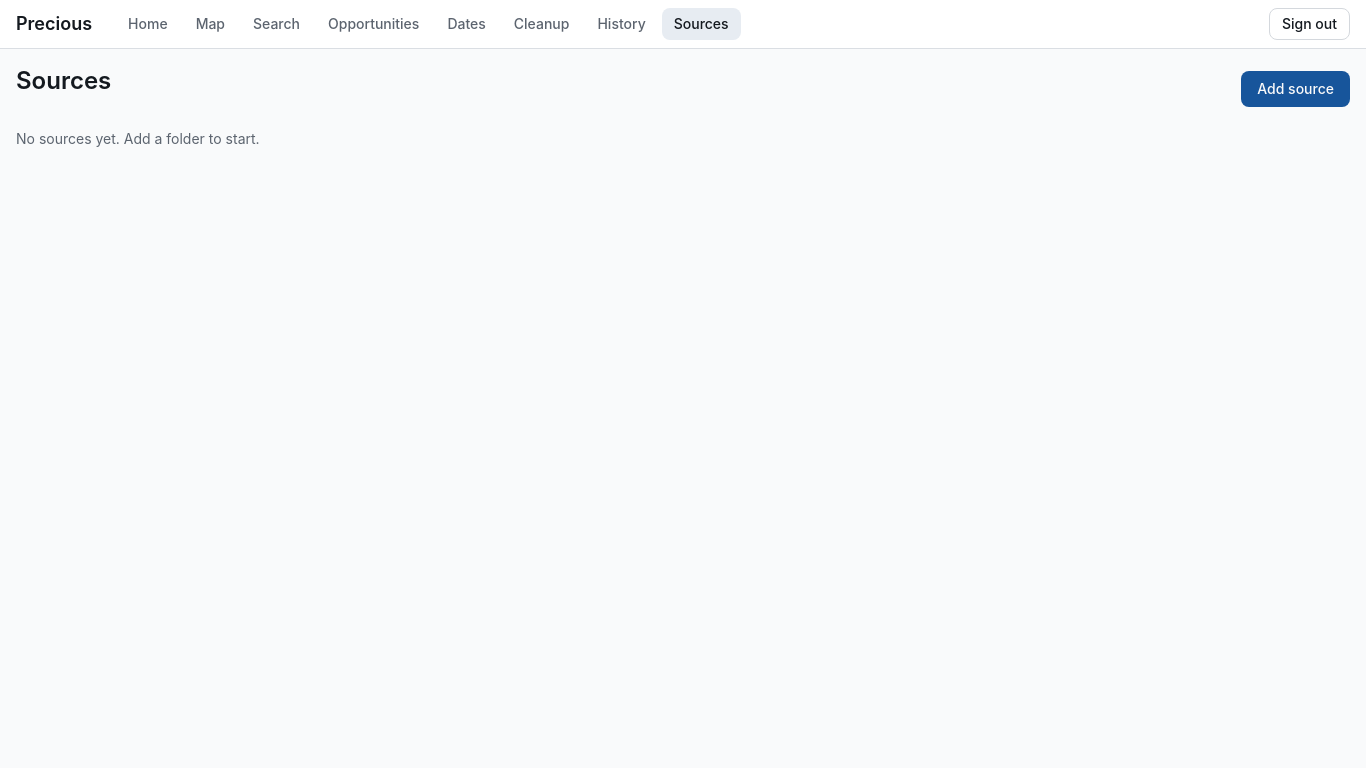
Test: Sources screen › explains a folder outside the allowed locations
This screenshot has width=1366, height=768.
Click the button "Add source" at (1296, 89), box [1241,71,1350,107]
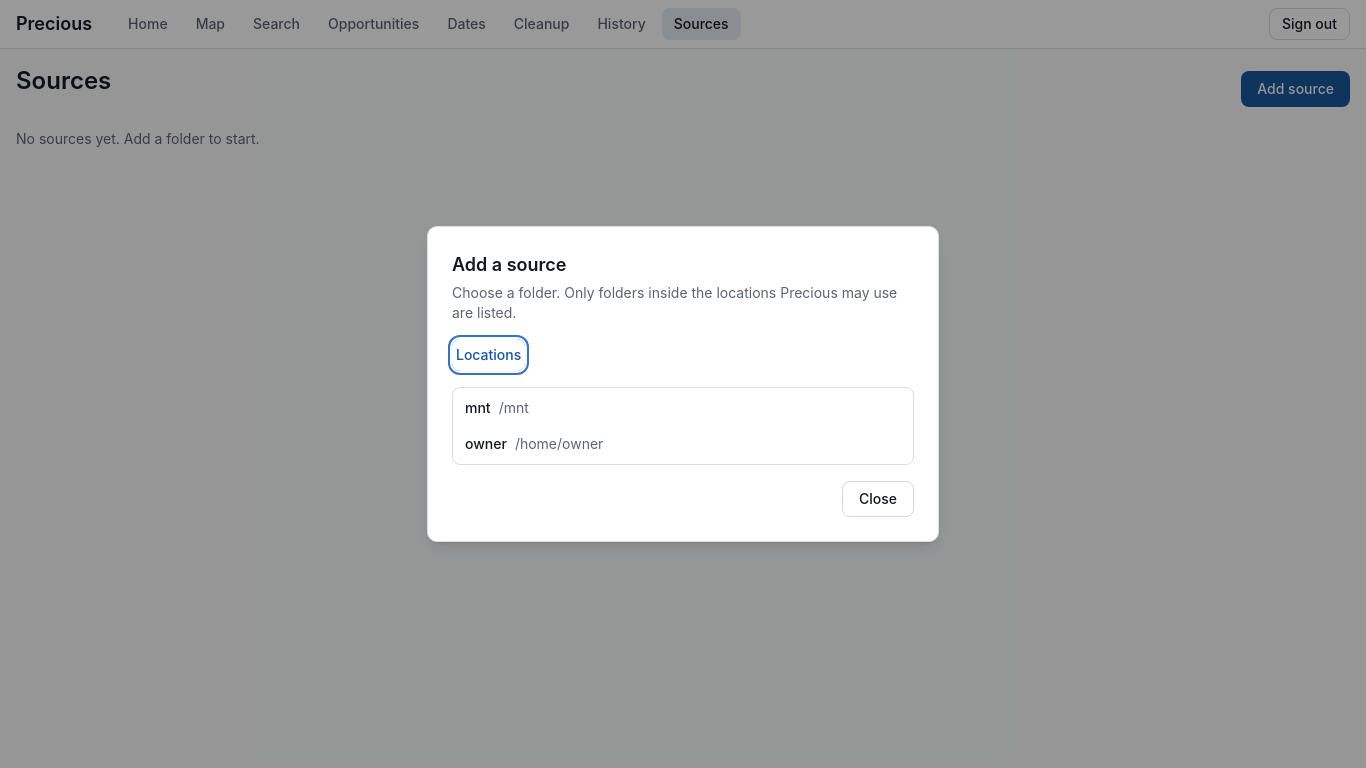
Click the button "mnt /mnt" at (514, 408), box [457,392,909,424]
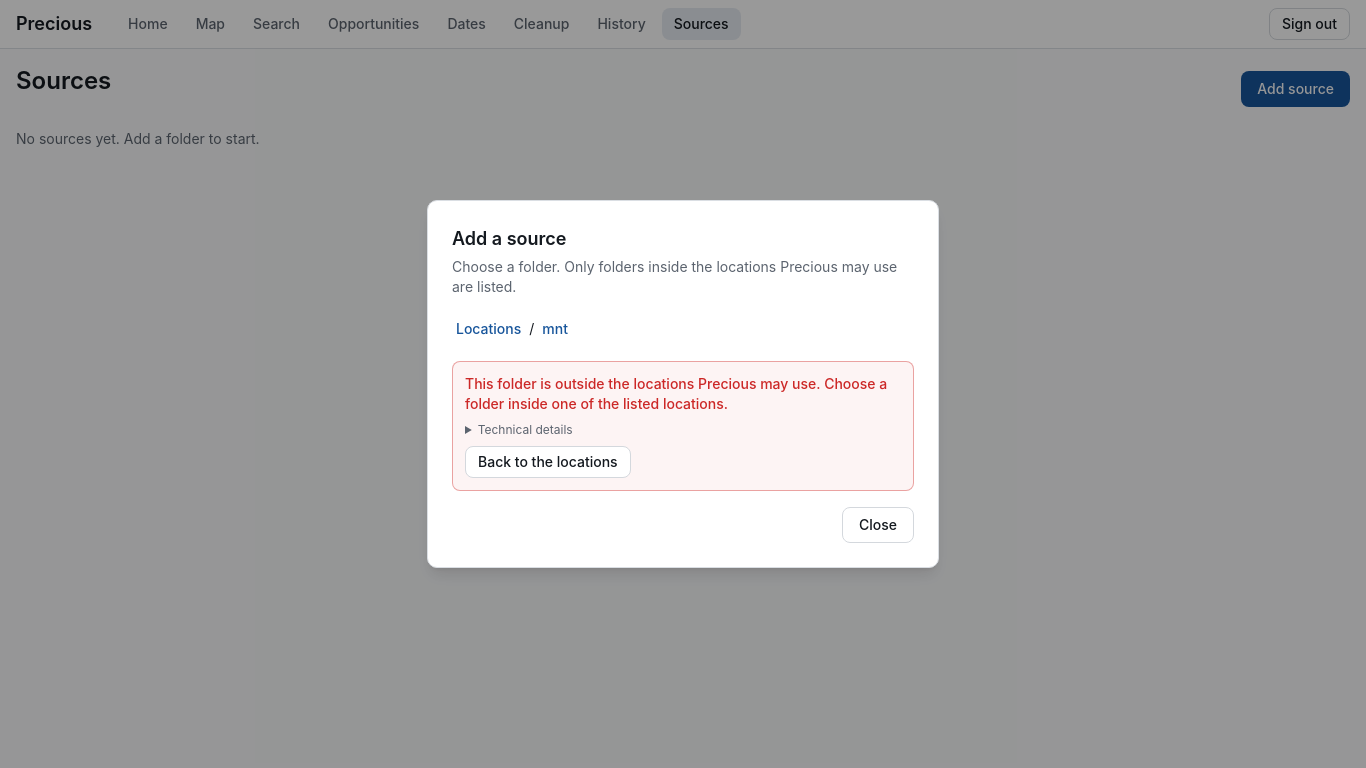
expect the message shows "This folder is outside the locations Precious may use. Choose a folder inside one of the listed locations.": met, box [465,375,887,412]
